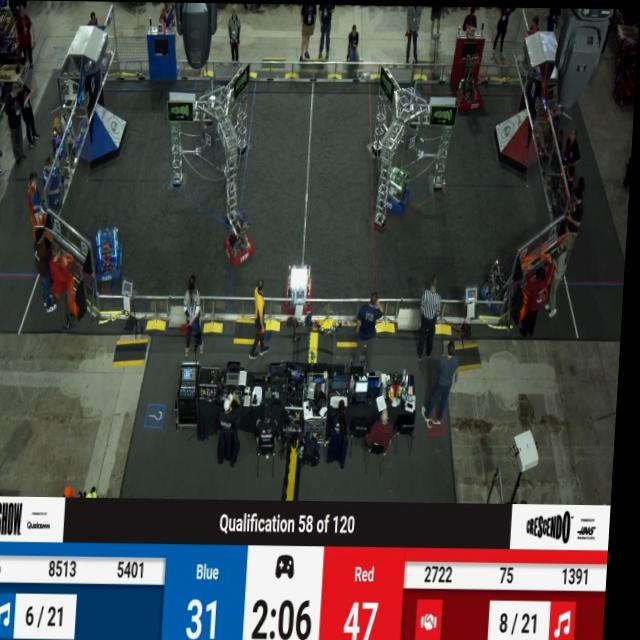Robot: (473, 240, 525, 320), (221, 203, 258, 271), (453, 40, 486, 111), (282, 259, 324, 310), (376, 163, 413, 217), (98, 224, 130, 284)
